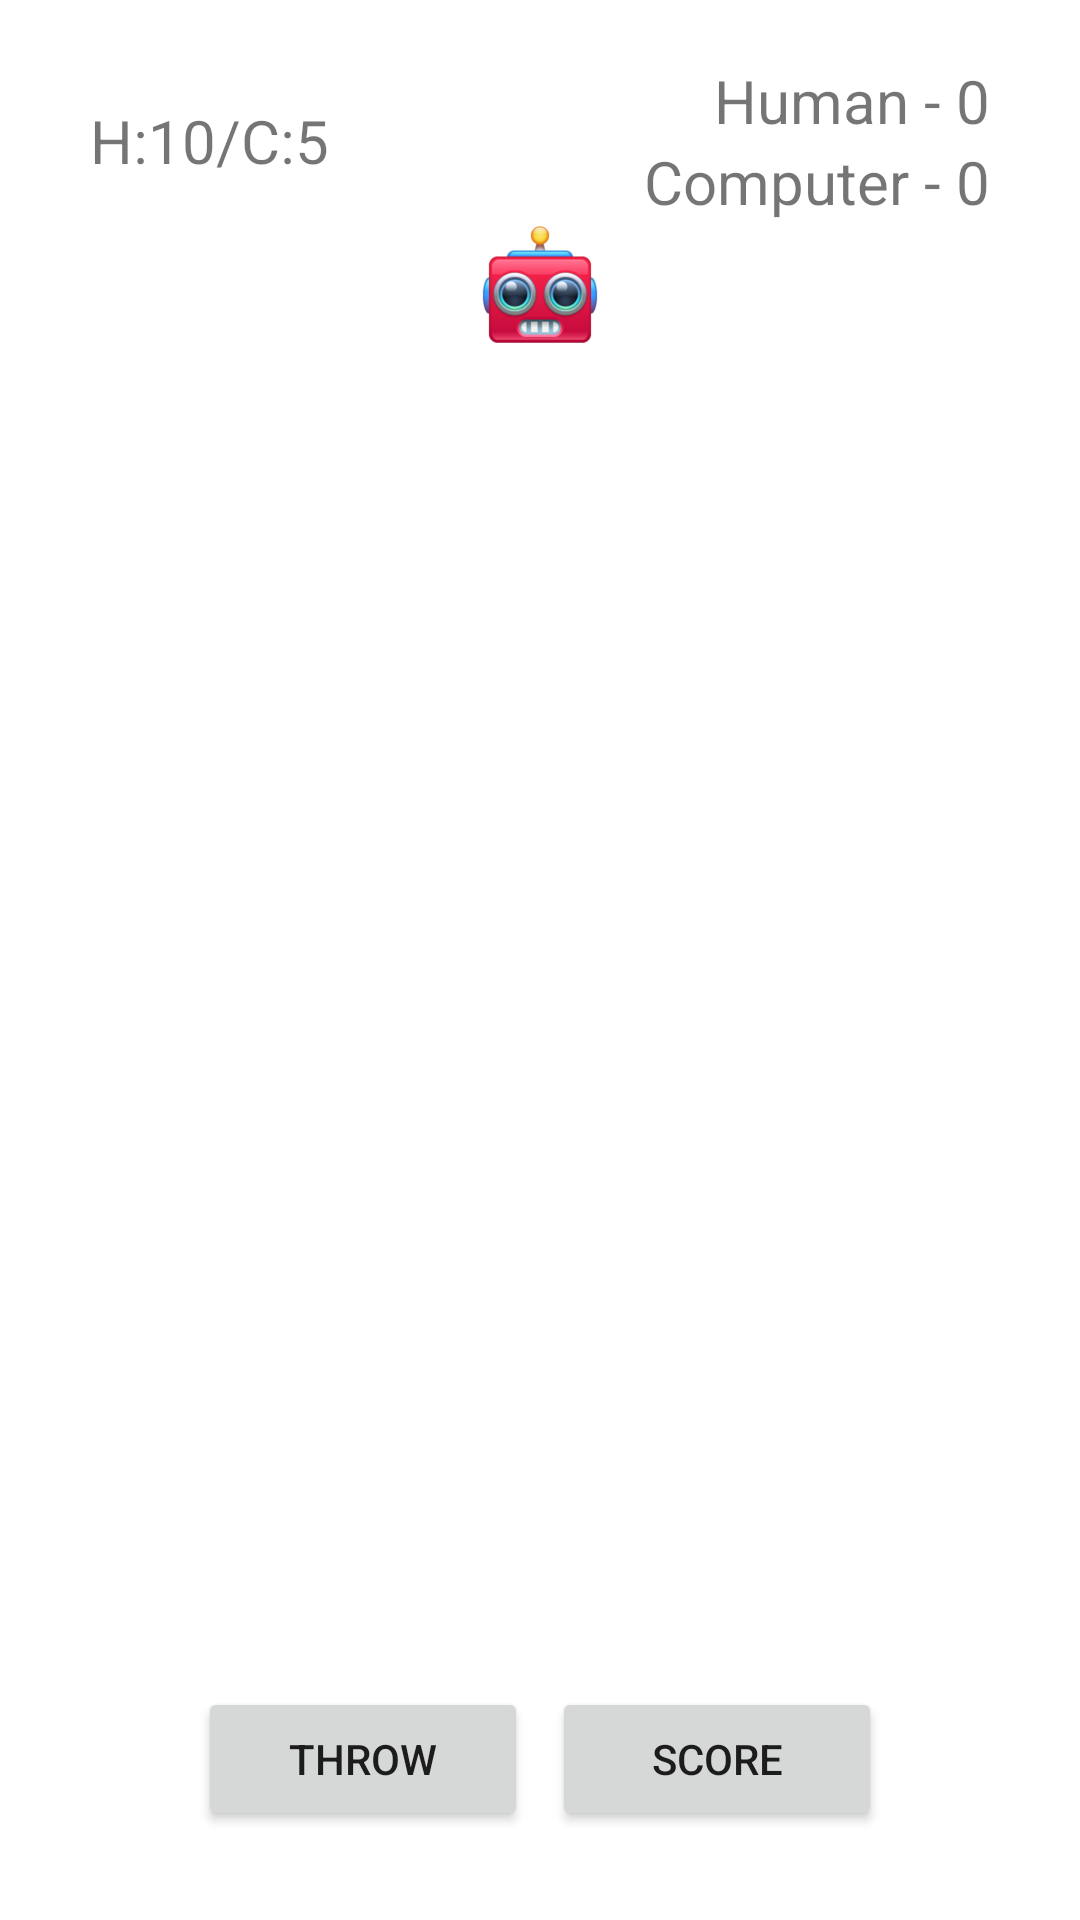

Icons on this 1080px×1920px Android screen, each with the point to tap as (x,y):
Robot image: (540,284)
